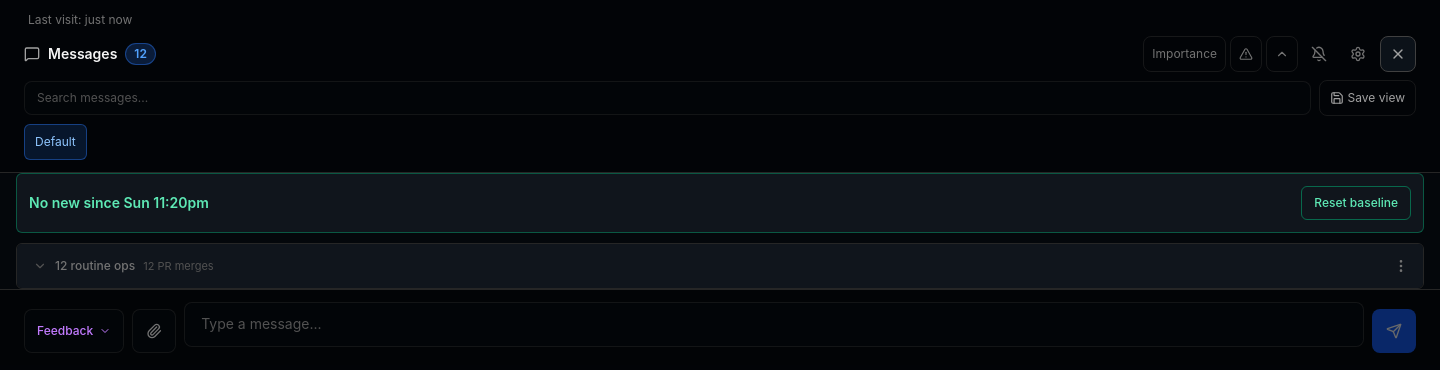
Test: MessagesPanel event type volume in prefs popover › highlights high-volume events (10+) with amber styling
Open the prefs popover
Click the button named "Event type visibility" at (1358, 54), box [1340, 36, 1376, 72]
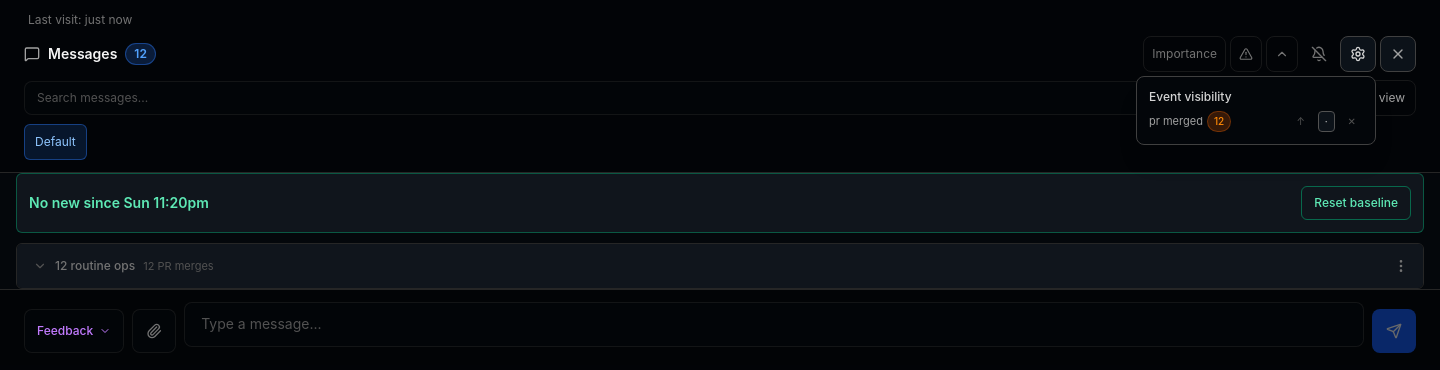
Now the text "12" is shown, box [1207, 111, 1231, 132]
